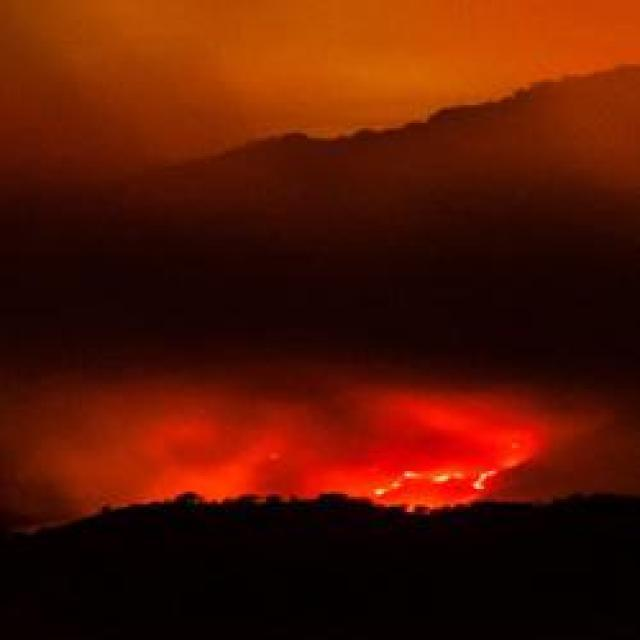Fire: (356, 466, 498, 503)
Smoke: (16, 368, 594, 512)
